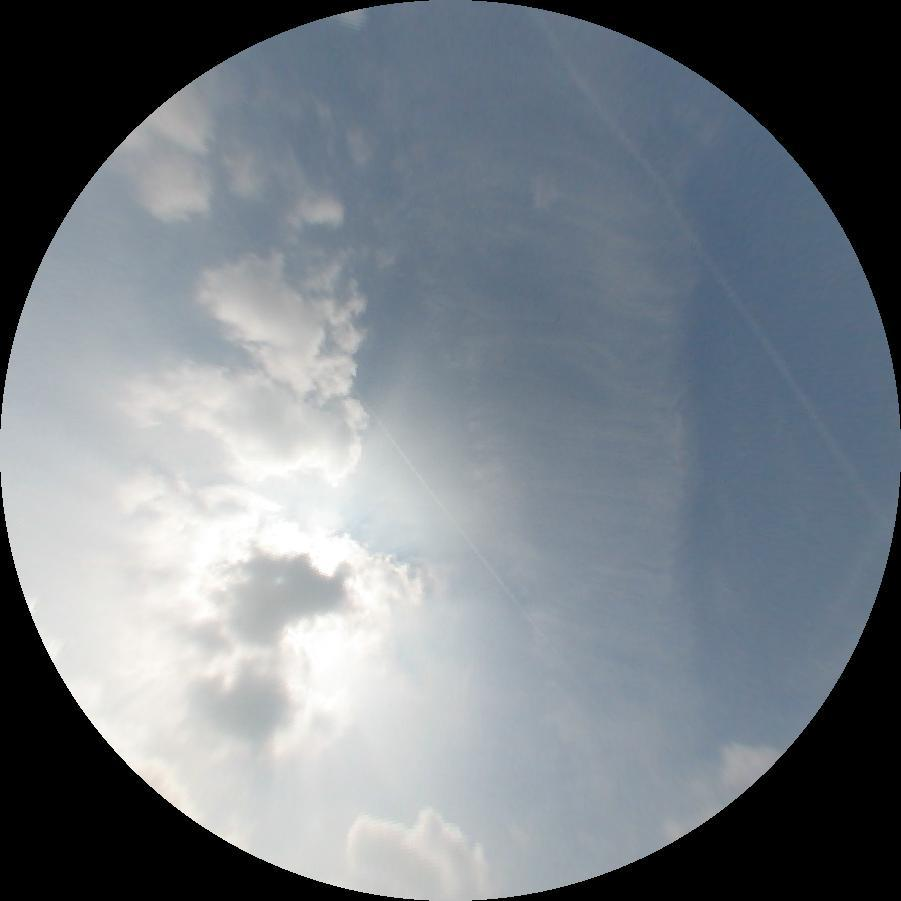contrail old: (348, 384, 558, 657)
sun: (201, 533, 360, 703)
